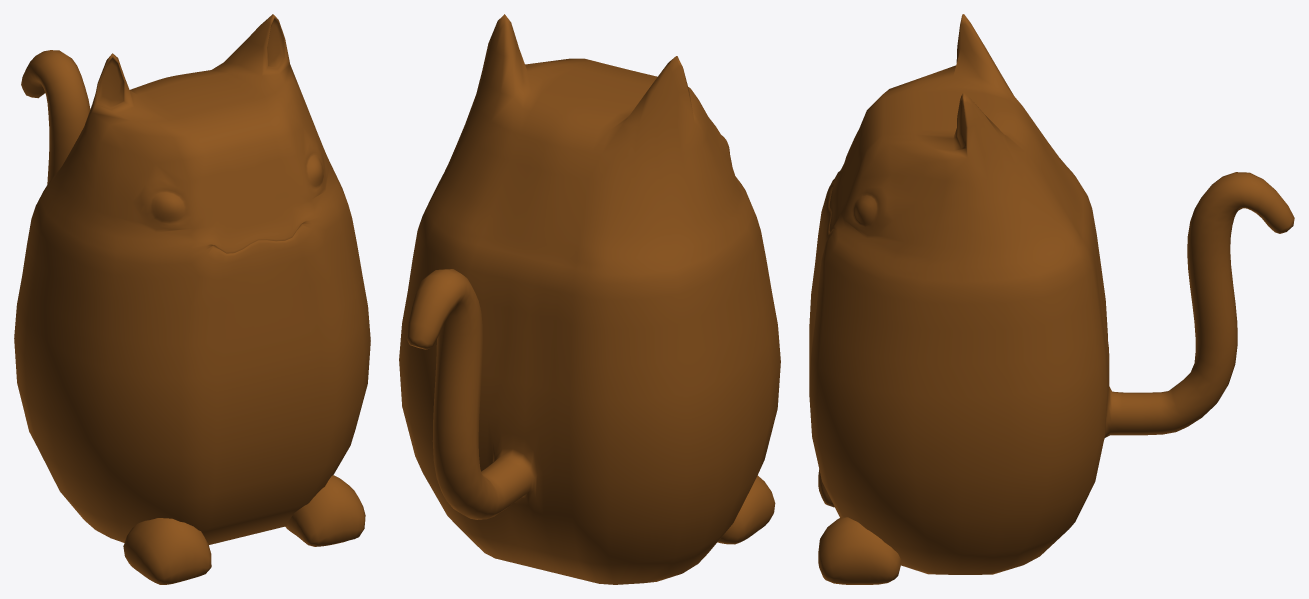
File: brownCat.fbx
3 renders of one model, left to right at view 1: azimuth 30°, elevation 25°; view 2: azimuth 150°, elevation 25°; view 3: azimuth 270°, elevation 25°, orthographic. The views are drawn at different scales.
Visible parts, largest first — view 1: pCylinder2; view 2: pCylinder2; view 3: pCylinder2.
Part boxes in pixels (x1,y1,x2,y2): pCylinder2: (14,14,370,584); pCylinder2: (399,14,780,584); pCylinder2: (809,14,1294,584).
Size of the model in its own units: 9.1 by 14.23 by 12.91.
